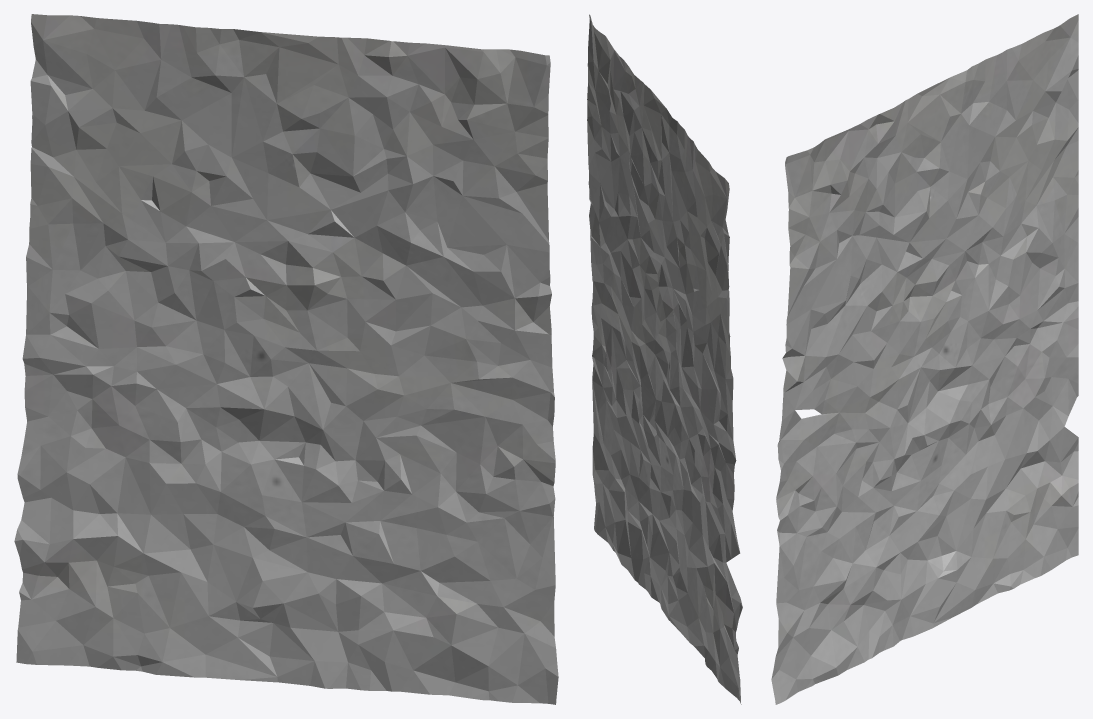
3 views of the same model, side by side, from view 1: azimuth 30°, elevation 25°; view 2: azimuth 150°, elevation 25°; view 3: azimuth 270°, elevation 25° (orthographic). The views are drawn at different scales.
Size of the model in its own units: 0.4937 by 0.8373 by 0.4257.
2 materials, 2 textured.
